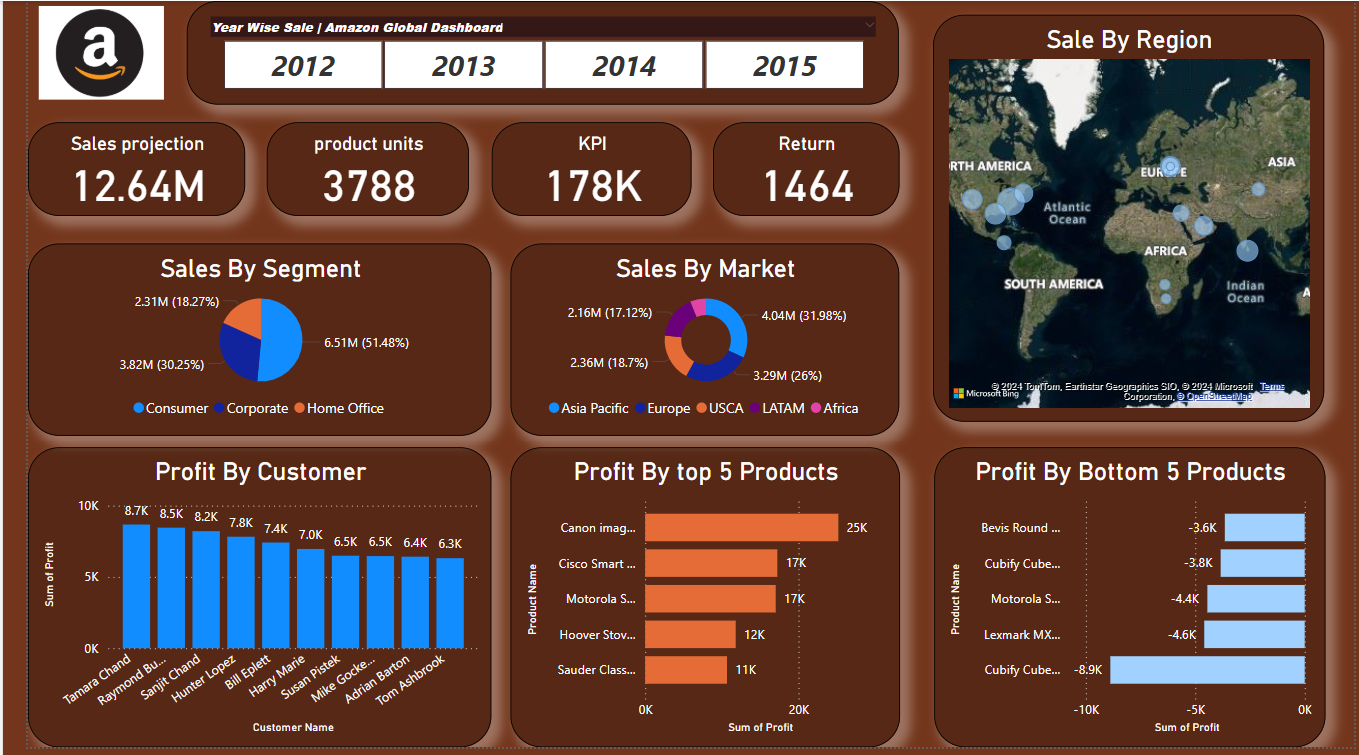

What the dashboard file says about the page in this screenshot:
{"tool":"powerbi","page":{"name":"Amazon ","canvas":[1280,720],"ordinal":0},"visuals":[{"type":"slicer","fields":{"Values":["Orders.year"]},"box":[153.2,0,687.4,100.1],"z":0},{"type":"card","title":"product units","fields":{"Values":["Orders.Product Name"]},"box":[230.4,117,195.4,90.5],"z":1000},{"type":"image","box":[0,0,141.1,100.1],"z":2000},{"type":"card","title":"KPI","fields":{"Values":["Orders.Quantity"]},"box":[447.4,117,193,90.5],"z":3000},{"type":"card","title":"Sales projection","fields":{"Values":["Orders.Sales"]},"box":[0,117,209.8,90.5],"z":4000},{"type":"card","title":"Return","fields":{"Values":["Orders.Ship Date"]},"box":[660.9,117,179.7,90.5],"z":5000},{"type":"pieChart","title":"Sales By Segment","fields":{"Category":["Orders.Segment"],"Y":["Orders.Sales"]},"box":[22.9,234,389.5,185.7],"z":6000},{"type":"donutChart","title":"Sales By Market","fields":{"Y":["Orders.Sales"],"Category":["Orders.Market"]},"box":[465.5,234,375.1,185.7],"z":7000},{"type":"columnChart","title":"Profit By Customer","fields":{"Category":["Orders.Customer Name"],"Y":["Orders.Profit"]},"box":[0,430.9,447.3,289.5],"z":8000},{"type":"clusteredBarChart","title":"Profit By top 5 Products","fields":{"Category":["Orders.Product Name"],"Y":["Orders.Profit"]},"box":[465.2,430.9,376,289.5],"z":9000},{"type":"clusteredBarChart","title":"Profit By Bottom 5 Products","fields":{"Category":["Orders.Product Name"],"Y":["Orders.Profit"]},"box":[874.1,430.9,377.4,289.5],"z":10000},{"type":"map","title":"Sale By Region","fields":{"Category":["Orders.Region"],"Size":["Orders.Sales"]},"box":[873.2,13.3,377.5,393.2],"z":11000}]}

Visuals, with their boxes in screenshot pixels (x1, y1, x2, y2), scaled from the page's 1280x720 canvas onto the 1359x755 screenshot:
slicer - Orders.year: box=[163, 0, 892, 105]
"product units" card: box=[245, 123, 452, 218]
image: box=[0, 0, 150, 105]
"KPI" card: box=[475, 123, 680, 218]
"Sales projection" card: box=[0, 123, 223, 218]
"Return" card: box=[702, 123, 892, 218]
"Sales By Segment" pieChart: box=[24, 245, 438, 440]
"Sales By Market" donutChart: box=[494, 245, 892, 440]
"Profit By Customer" columnChart: box=[0, 452, 475, 754]
"Profit By top 5 Products" clusteredBarChart: box=[494, 452, 893, 754]
"Profit By Bottom 5 Products" clusteredBarChart: box=[928, 452, 1329, 754]
"Sale By Region" map: box=[927, 14, 1328, 426]
